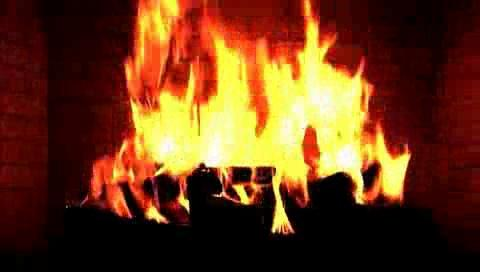fire: (118, 33, 397, 223)
